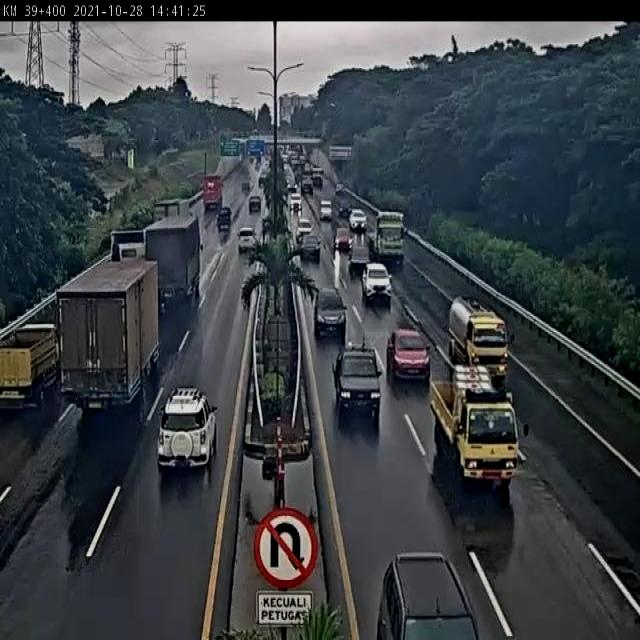Car: (375, 550, 483, 637), (156, 386, 218, 470), (387, 328, 431, 386), (314, 286, 346, 339), (361, 262, 392, 306), (238, 226, 257, 254), (348, 209, 368, 233), (334, 228, 352, 253), (216, 207, 232, 232), (296, 218, 312, 239), (289, 192, 302, 214), (320, 200, 332, 220), (338, 197, 351, 215)
Truck: (58, 258, 162, 417), (430, 364, 520, 488), (144, 214, 201, 321), (447, 296, 509, 386), (0, 324, 61, 412), (332, 344, 383, 428), (370, 210, 406, 271), (151, 198, 192, 222), (349, 241, 371, 278), (201, 175, 223, 211), (299, 233, 322, 263), (311, 166, 325, 190), (249, 194, 261, 213)
